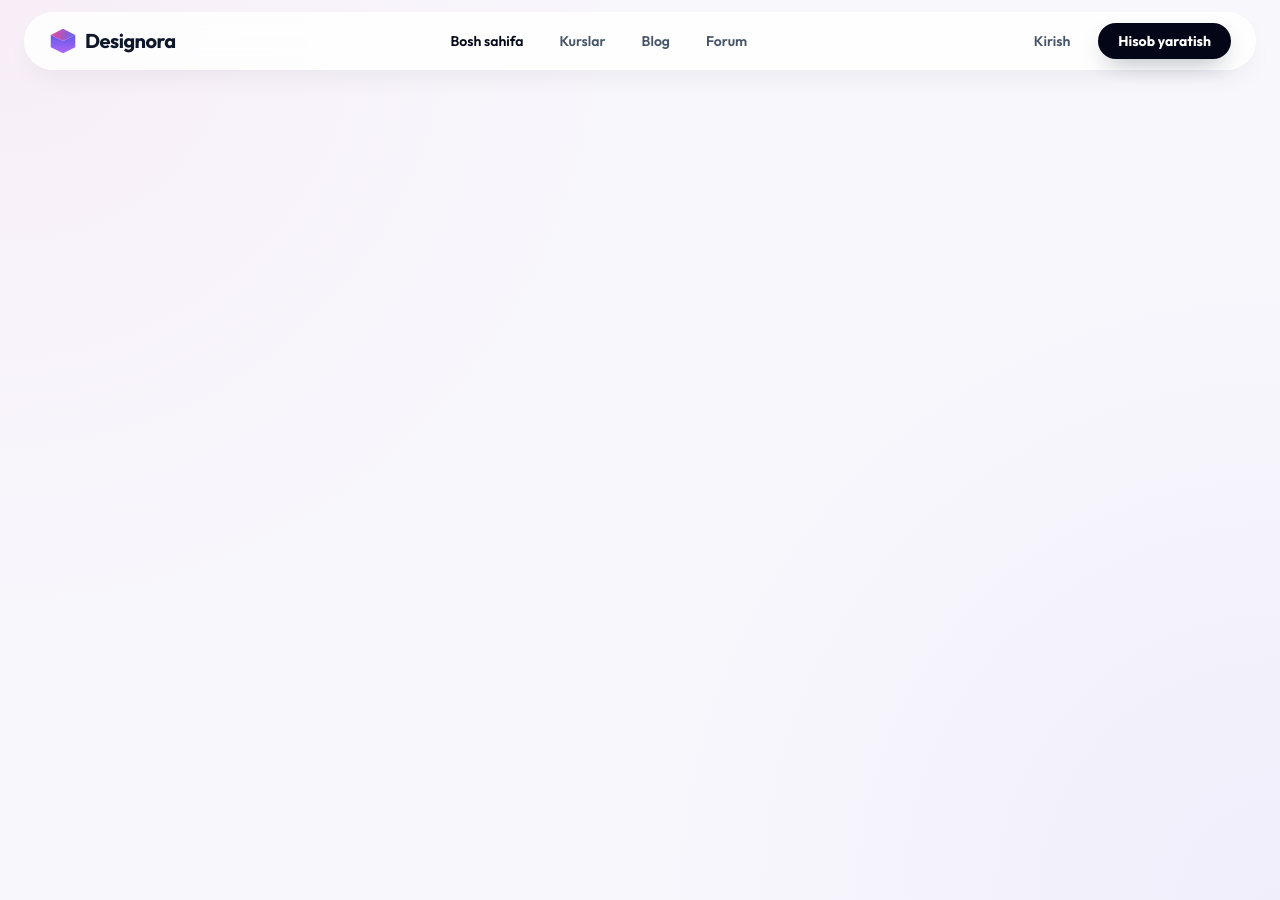
Navbar › opens login modal and closes it with Escape
This screenshot has width=1280, height=900.
Click the button "Kirish" at [1052, 41], box [1022,25,1082,57]
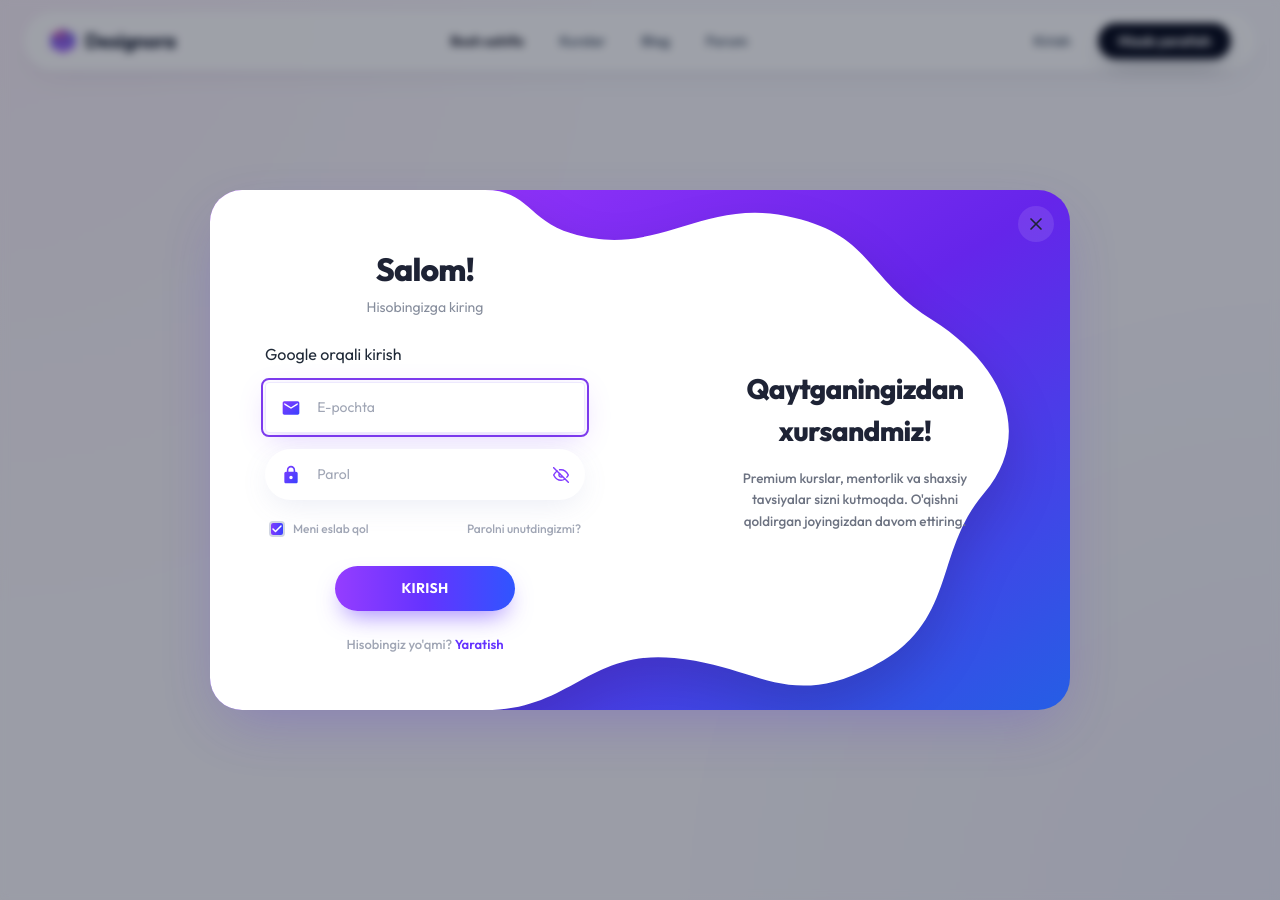
Result: the text "Hisobingizga kiring" is shown at [367,297,483,318]
Result: the field with placeholder "E-pochta" is shown at [265,382,585,433]
Press Escape
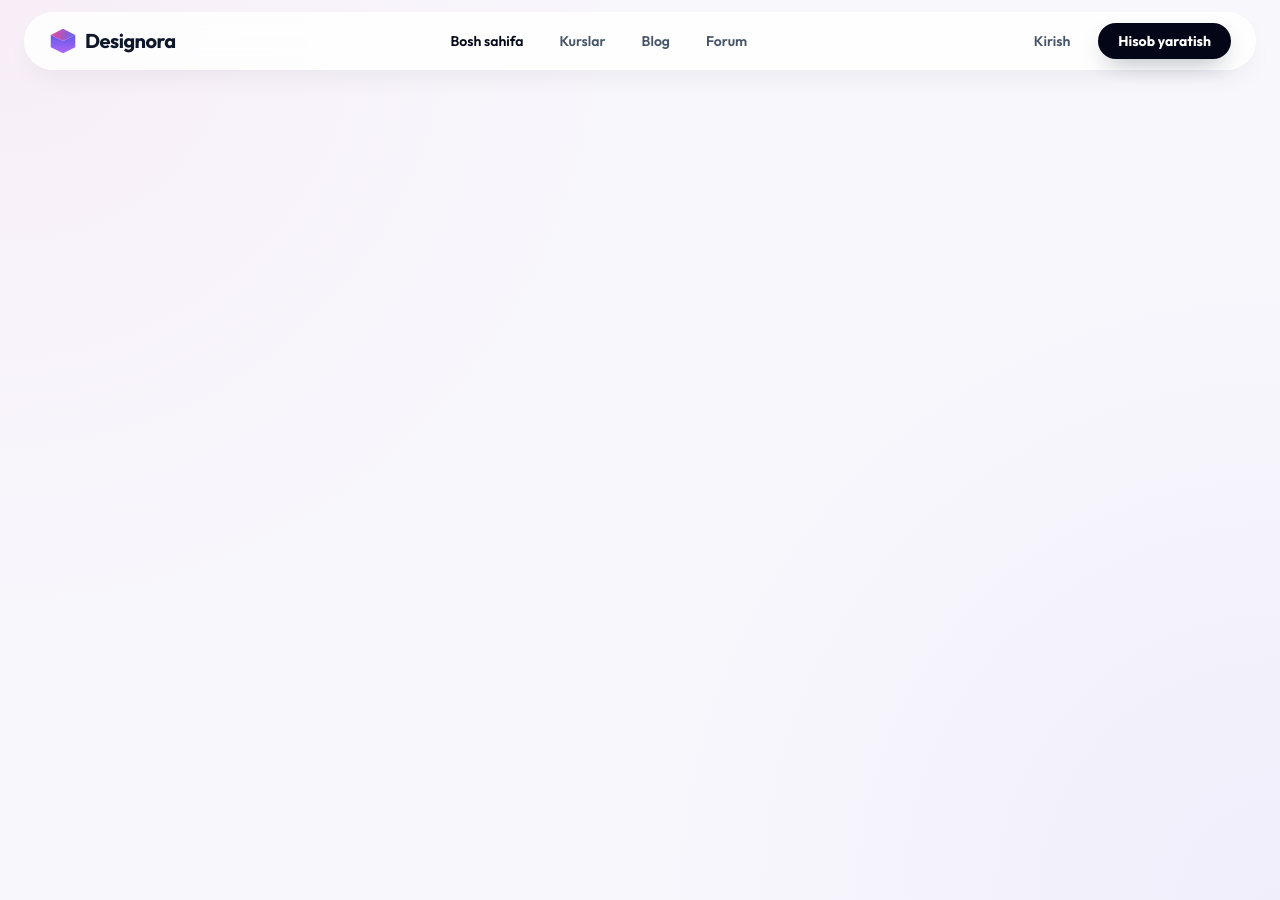
Result: the field with placeholder "E-pochta" is gone
